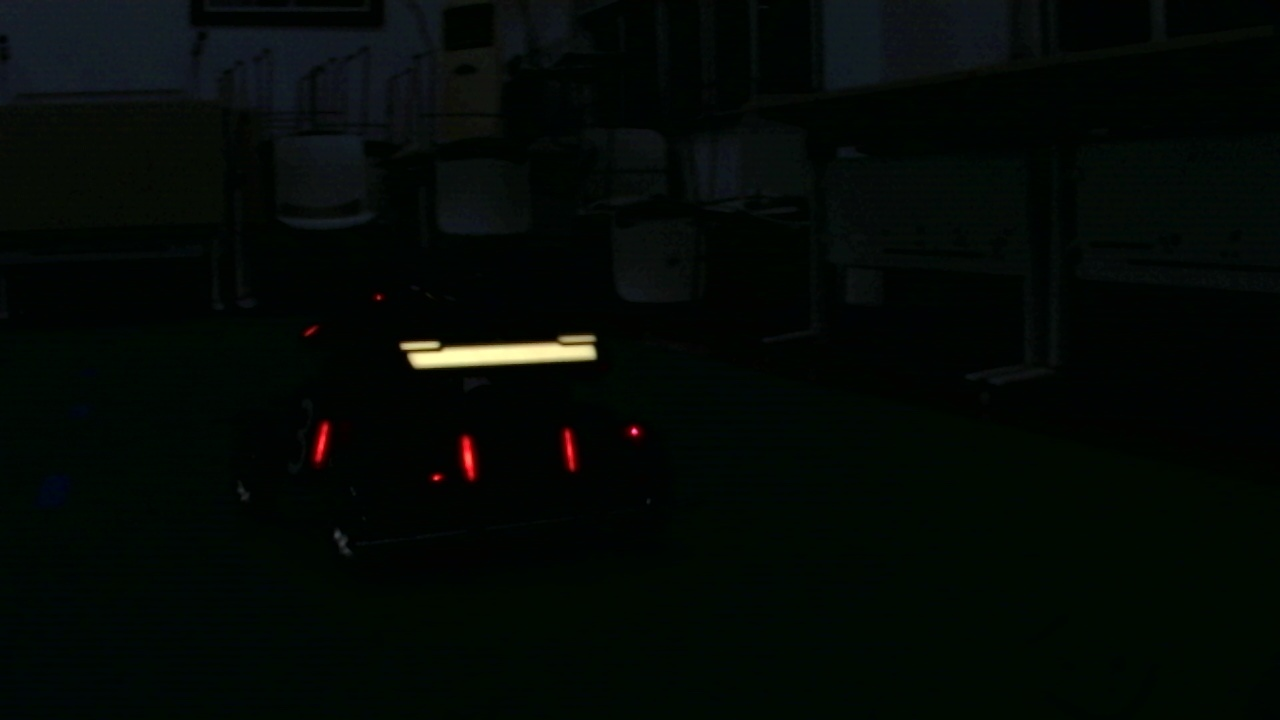lamp: (458, 428, 484, 489), (314, 416, 331, 462), (564, 430, 579, 476)
notpair1: (314, 417, 482, 486)
pair1: (459, 431, 579, 486)
